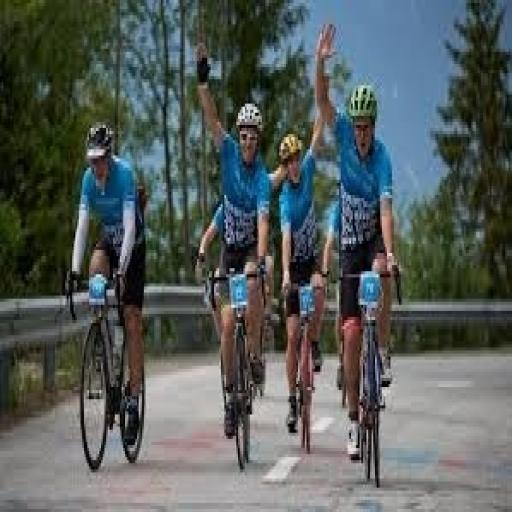cycling: (314, 18, 402, 466), (192, 40, 276, 448), (63, 119, 151, 457), (271, 91, 332, 445)
